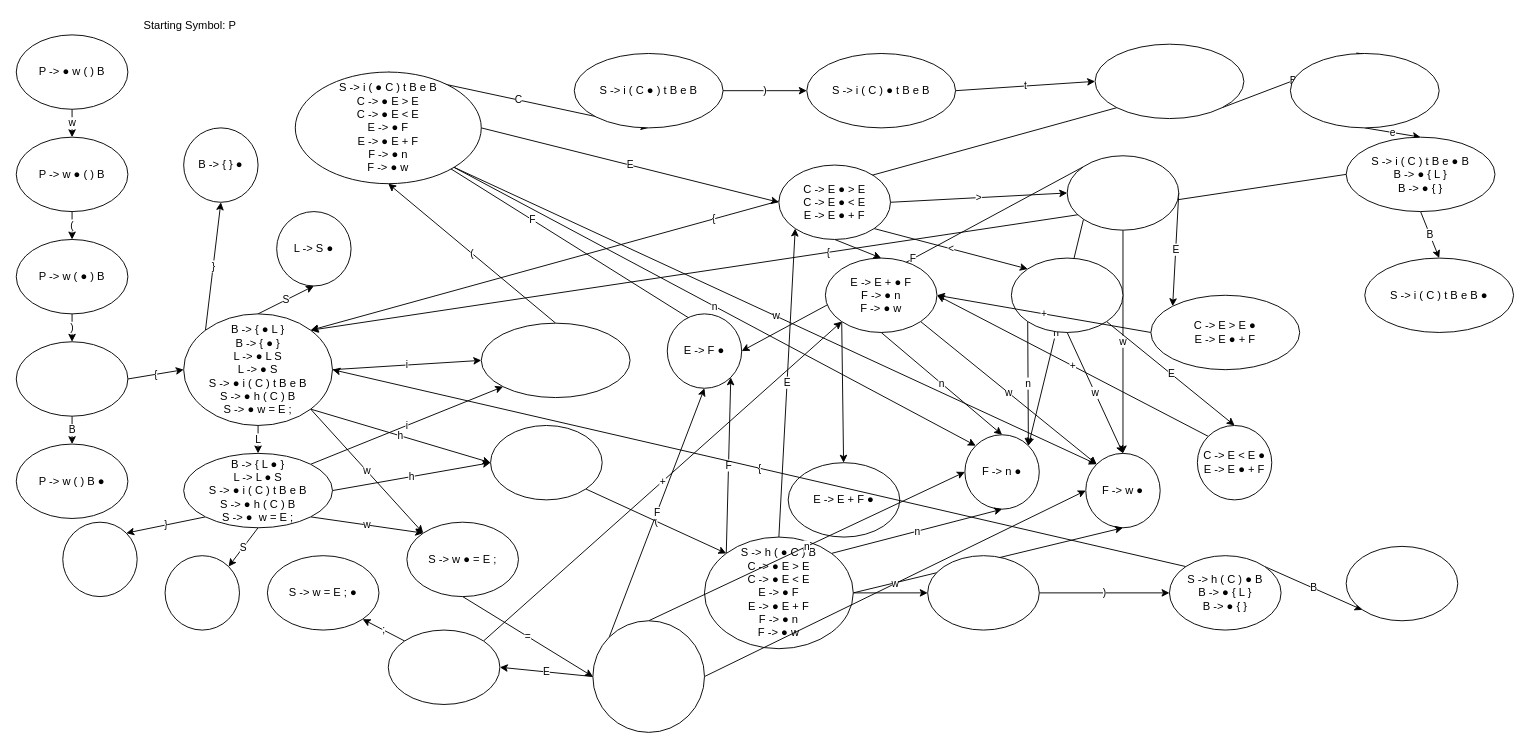
Some shapes in this 1530 by 749 pixel diagram are drawn without their labels. Here are the shapes that lost their labels. From the top down, the centre of each, then its label:
At (1169,81): "S -> i ( C ) t ● B e B B -> ● { L } B -> ● { }".
At (1364,90): "S -> i ( C ) t B ● e B".
At (1122,192): "C -> E > ● E E -> ● F E -> ● E + F F -> ● n F -> ● w".
At (1066,294): "C -> E < ● E E -> ● F E -> ● E + F F -> ● n F -> ● w".
At (71,378): "P -> w ( ) ● B B -> ● { L } B -> ● { }".
At (555,360): "S -> i ● ( C ) t B e B".
At (546,462): "S -> h ● ( C ) B".
At (99,559): "B -> { L } ●".
At (201,592): "L -> L S ●".
At (983,592): "S -> h ( C ● ) B".
At (1401,583): "S -> h ( C ) B ●".
At (443,666): "S -> w = E ● ; E -> E ● + F".
At (648,676): "S -> w = ● E ; E -> ● F E -> ● E + F F -> ● n F -> ● w".
